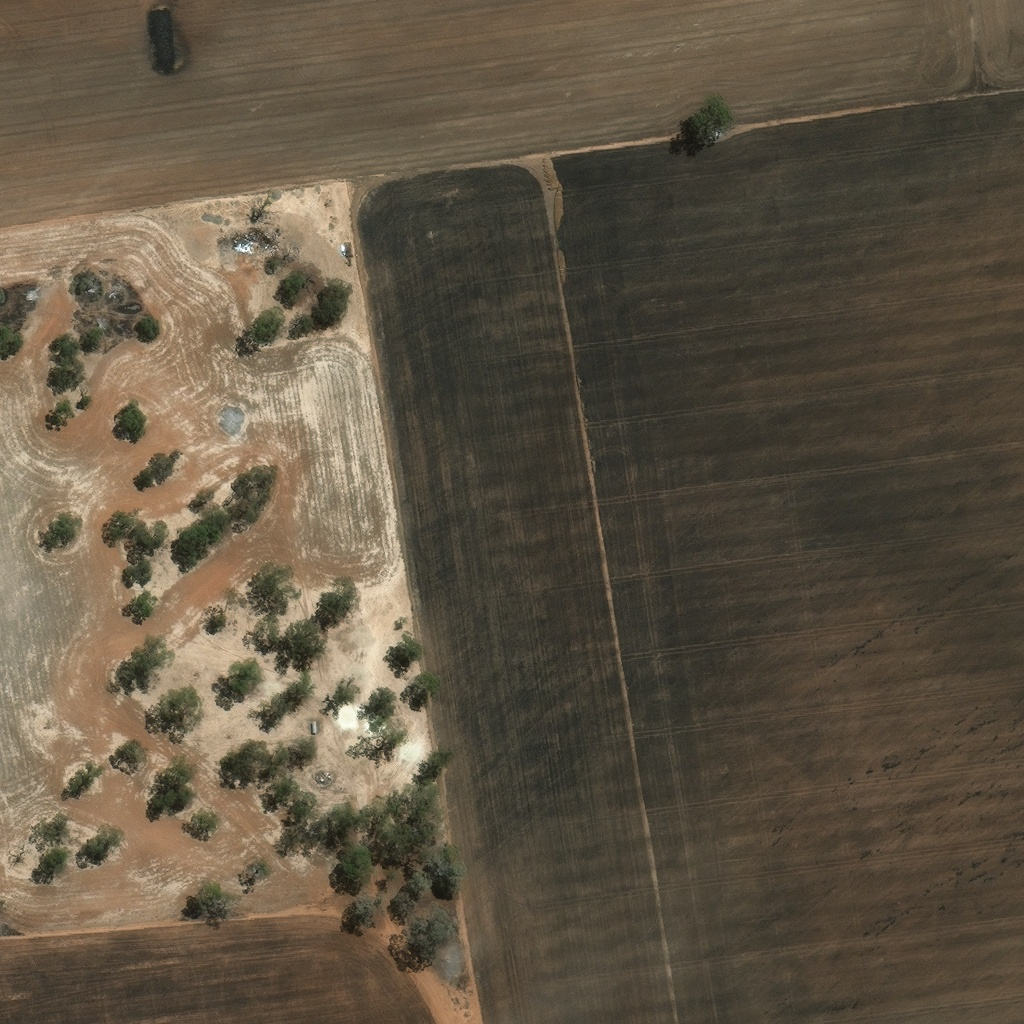0 no-damage: (314, 715, 321, 728)
